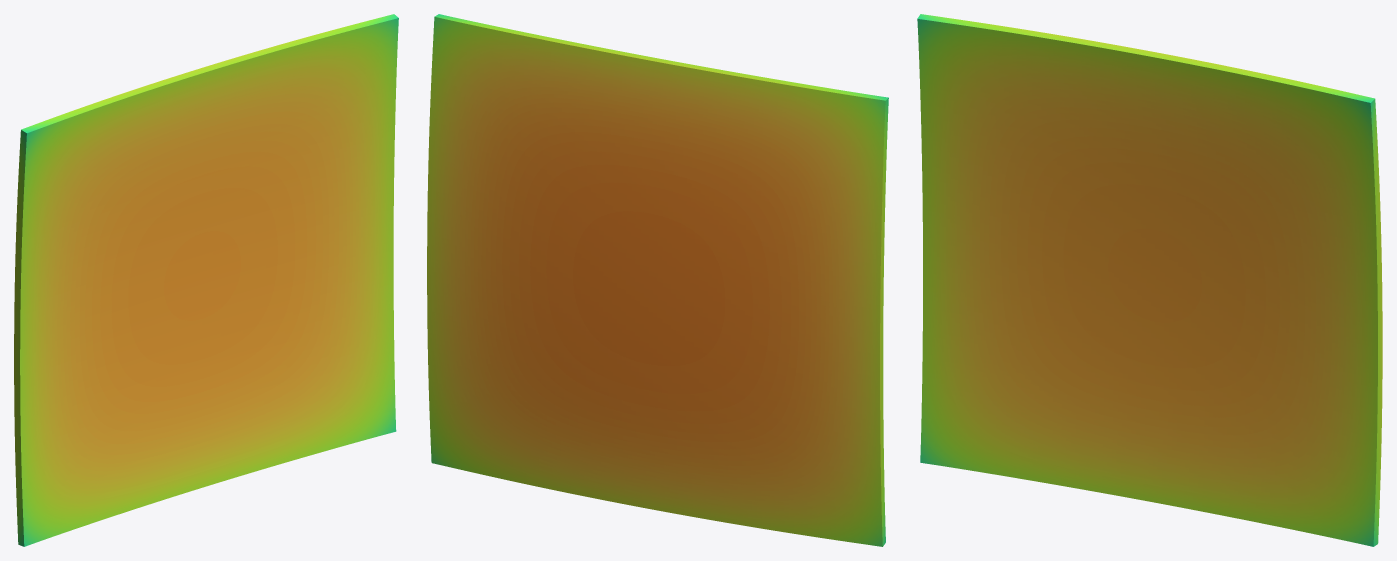
File: Eclipse_DISP_Al6061-T6_2mm.gltf
3 views of the same model, side by side, from view 1: azimuth 30°, elevation 25°; view 2: azimuth 150°, elevation 25°; view 3: azimuth 330°, elevation 25° (orthographic). The views are drawn at different scales.
Parts seen in each view (by area): view 1: Renderer Node; view 2: Renderer Node; view 3: Renderer Node.
Part boxes in pixels (x1,y1,x2,y2): Renderer Node: (14,14,398,546); Renderer Node: (427,14,888,546); Renderer Node: (917,14,1382,546).
Size of the model in its own units: 85.76 by 85.71 by 13.29.
1 material, 1 textured.
